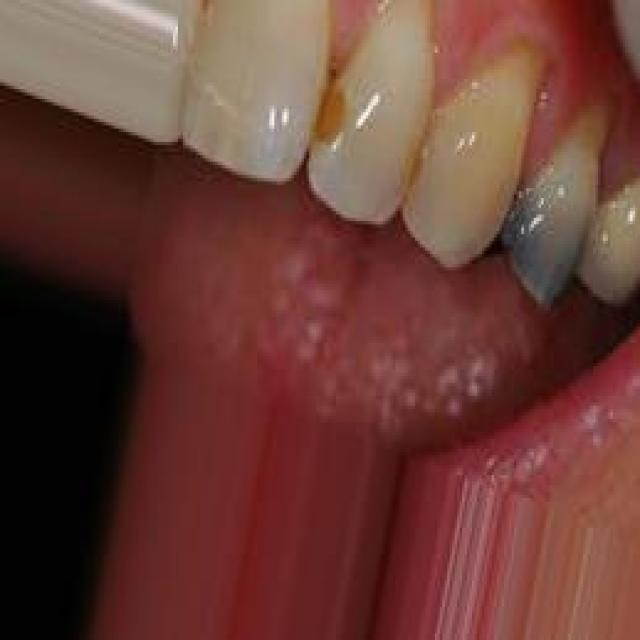caries: (308, 73, 362, 149)
